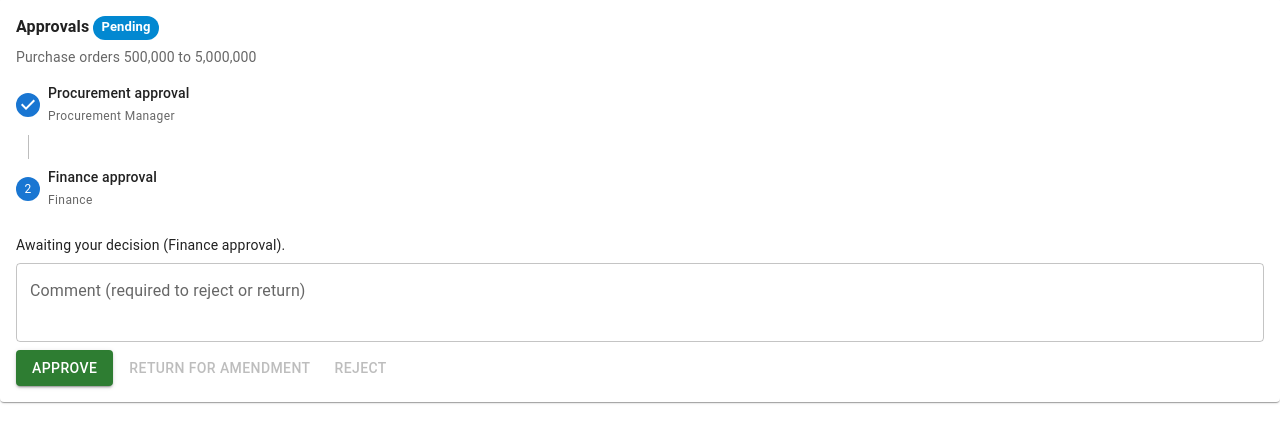
Test: ApprovalPanel › shows decision buttons only to the current approver, and needs a comment to reject
Check: the text "Awaiting your decision (Finance approval)." is shown, box [16, 237, 286, 253]
Check: the text "Finance approval" is shown, box [48, 169, 157, 185]
Type "Price too high" into the text box labelled "Comment (required to reject or return)" at {"x": 640, "y": 302}, box [30, 279, 1250, 325]
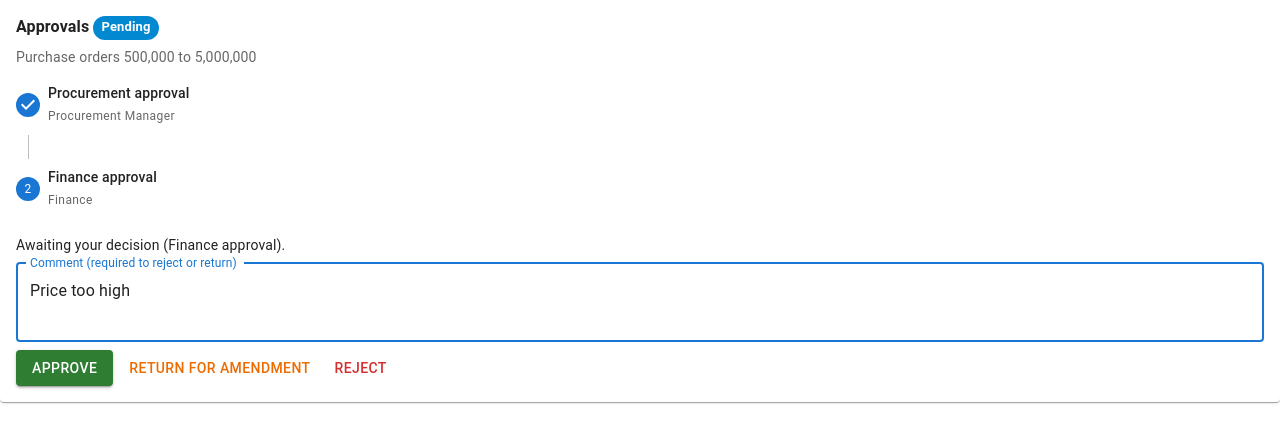
Check: the button "Approve" is enabled, box [16, 350, 113, 386]
Check: the button "Reject" is enabled, box [326, 350, 395, 386]
